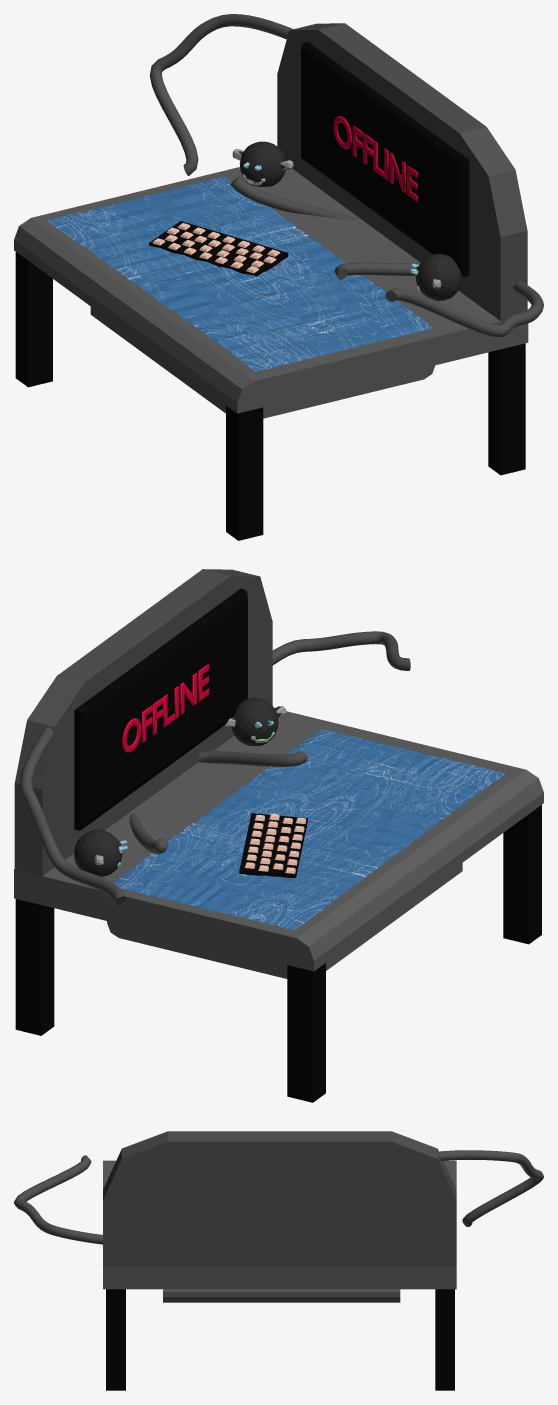
The model's file is Workbench_with blueprints.glb.
The picture shows the model from 3 angles, top to bottom: view 1: azimuth 30°, elevation 25°; view 2: azimuth 150°, elevation 25°; view 3: azimuth 270°, elevation 25°; orthographic projection. The views are drawn at different scales.
Parts seen in each view (by area): view 1: Plane, Cube, Cube.005, Cube.006, Cube.003, Cube.004, Cube.002, Plane.001, BézierCurve, Cube.007, BézierCurve.001, Sphere.002 (+4 smaller); view 2: Plane, Cube, Cube.005, Cube.006, Cube.001, Cube.002, Cube.003, Cube.007, Plane.001, BézierCurve, BézierCurve.001, Sphere.001 (+4 smaller); view 3: Cube.005, Cube, Cube.007, Cube.001, Cube.004, BézierCurve, BézierCurve.001.
Boxes of the visible parts, x1,y1,x2,y2 form: Plane: (47, 176, 433, 371); Cube: (14, 167, 528, 413); Cube.005: (277, 23, 527, 320); Cube.006: (301, 42, 469, 276); Cube.003: (226, 405, 263, 540); Cube.004: (488, 343, 525, 475); Cube.002: (15, 252, 52, 387); Plane.001: (149, 221, 288, 276); BézierCurve: (150, 14, 293, 175); Cube.007: (90, 307, 435, 418); BézierCurve.001: (385, 281, 543, 337); Sphere.002: (232, 141, 293, 186); Plane: (113, 729, 505, 930); Cube: (14, 711, 543, 971); Cube.005: (14, 569, 272, 885); Cube.006: (74, 588, 247, 830); Cube.001: (15, 899, 54, 1035); Cube.002: (287, 963, 325, 1102); Cube.003: (503, 805, 541, 944); Cube.007: (107, 863, 462, 978); Plane.001: (239, 813, 308, 877); BézierCurve: (20, 727, 126, 904); BézierCurve.001: (272, 631, 410, 670); Sphere.001: (224, 698, 286, 745); Cube.005: (103, 1131, 456, 1266); Cube: (103, 1160, 456, 1289); Cube.007: (163, 1289, 400, 1302); Cube.001: (435, 1289, 454, 1390); Cube.004: (106, 1289, 125, 1390); BézierCurve: (438, 1150, 543, 1226); BézierCurve.001: (14, 1155, 102, 1244).
Bounding box in the file's own units: 7.56 × 7.8 × 15.06.
Materials: 13 (1 with a texture image).
